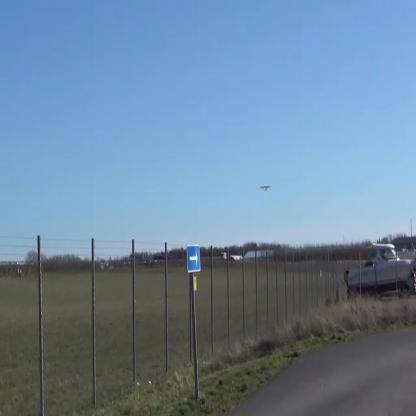CIV_Plane: (258, 181, 274, 195)
